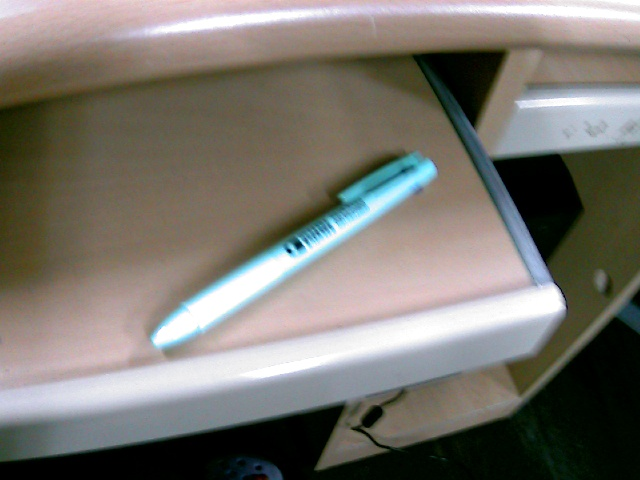pen: (148, 154, 433, 348)
